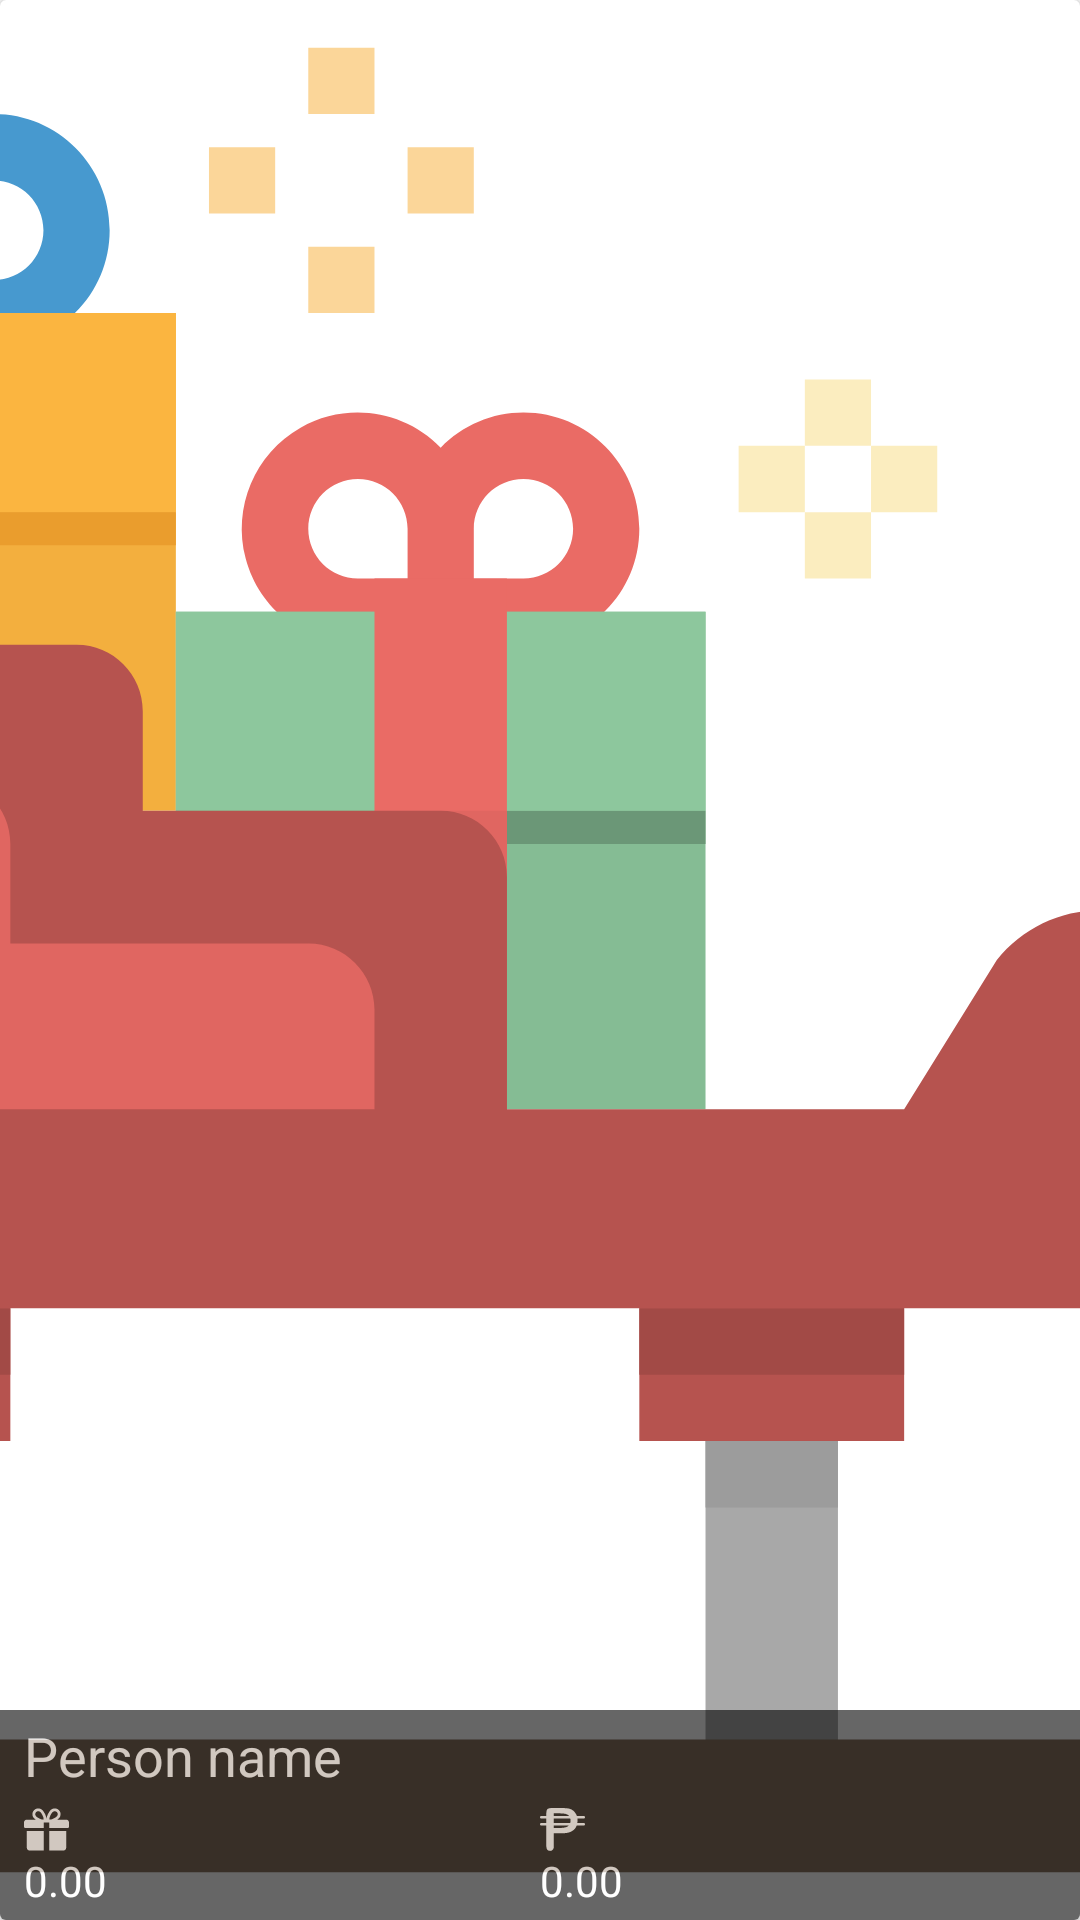

Where icons sit on this 1080*1920 app screen, as (x1, y1, x2, y2):
gift: (24, 1808, 69, 1851)
philippines peso currency symbol: (540, 1808, 585, 1851)
